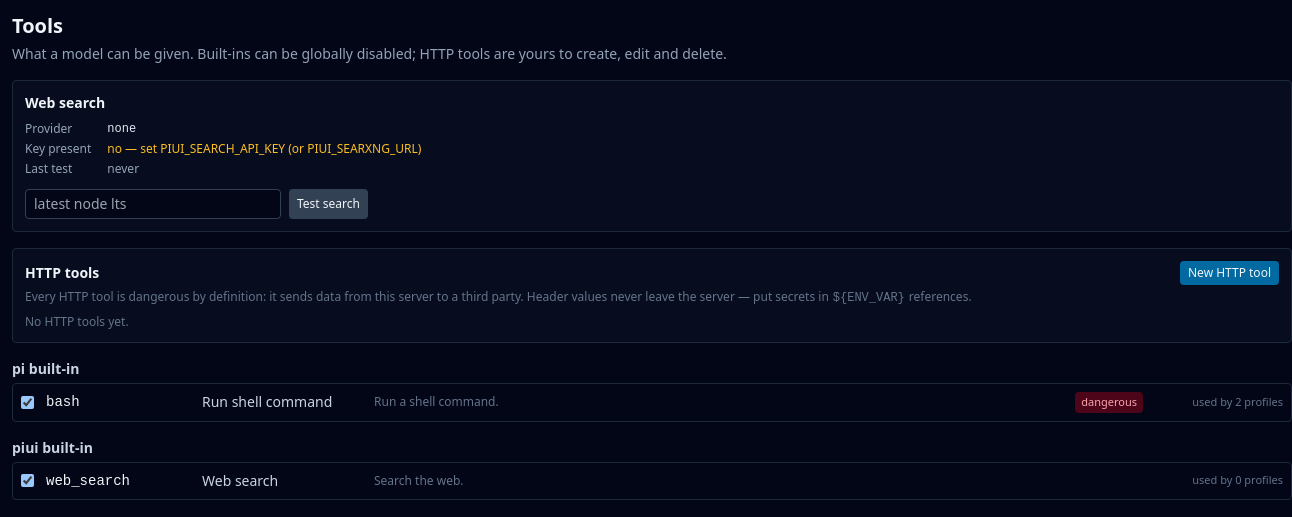
it: ToolsPage › [05-skills-and-tools#B.2] explains a 503 instead of showing a broken page
Expected: the text "bash" is shown, [46,394,80,410]
Click the button "Test search". click: (328, 204)
box: [289,189,368,219]
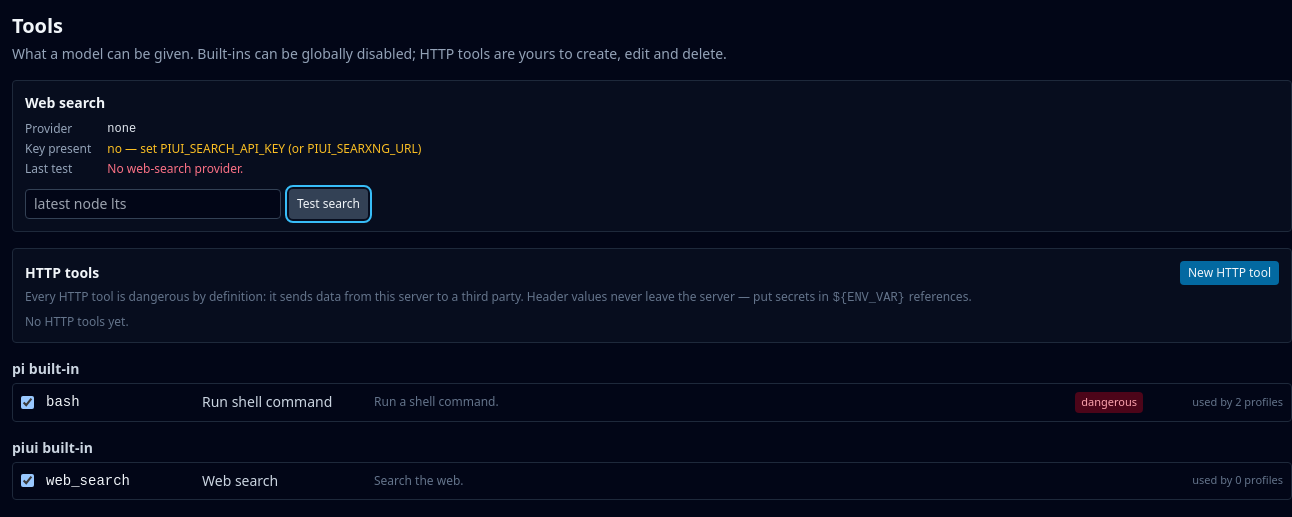
Expected: the text "No web-search provider." is shown, [107,160,243,177]
